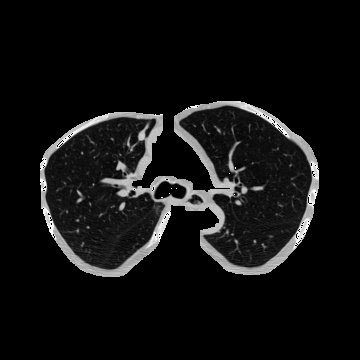PN: (136, 130, 146, 140)
